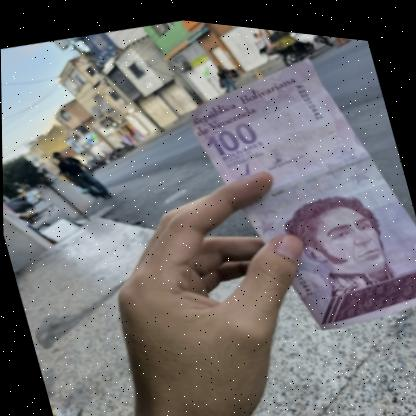one_hundred-front-vef: (175, 21, 416, 352)
